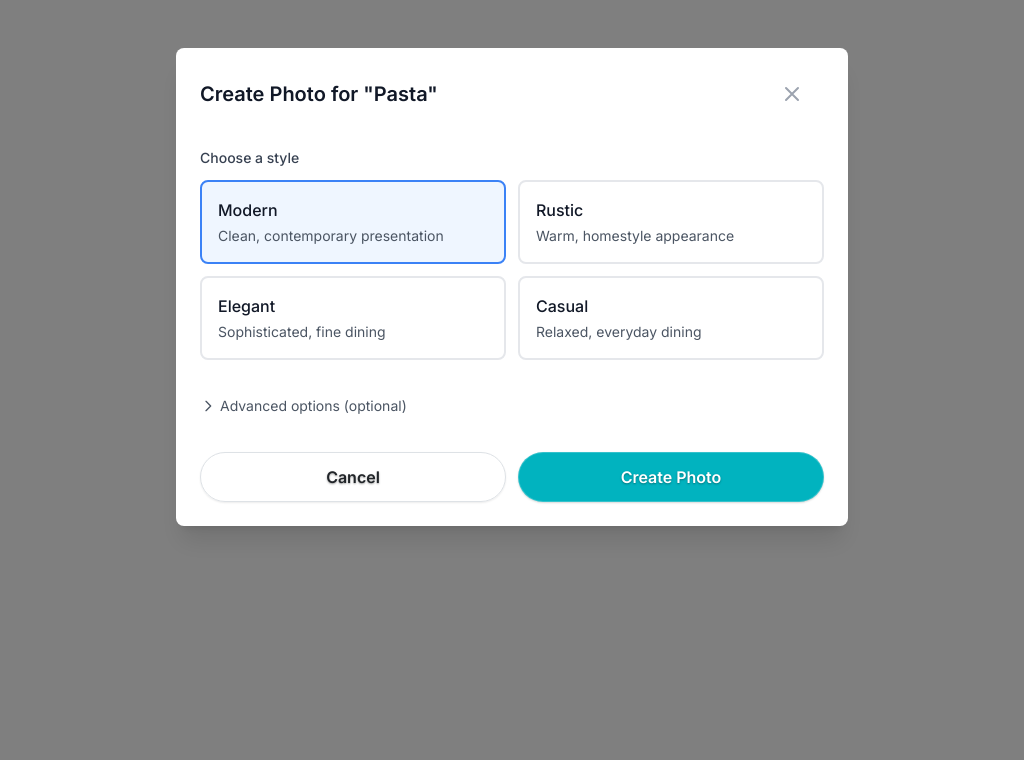
it: AIImageGeneration - Advanced options › toggles Advanced section and shows fields
What coordinates should you click on to do the following:
click the button "Advanced options (optional)"
I would click on:
 (303, 406)
Its box is [200,384,407,428].
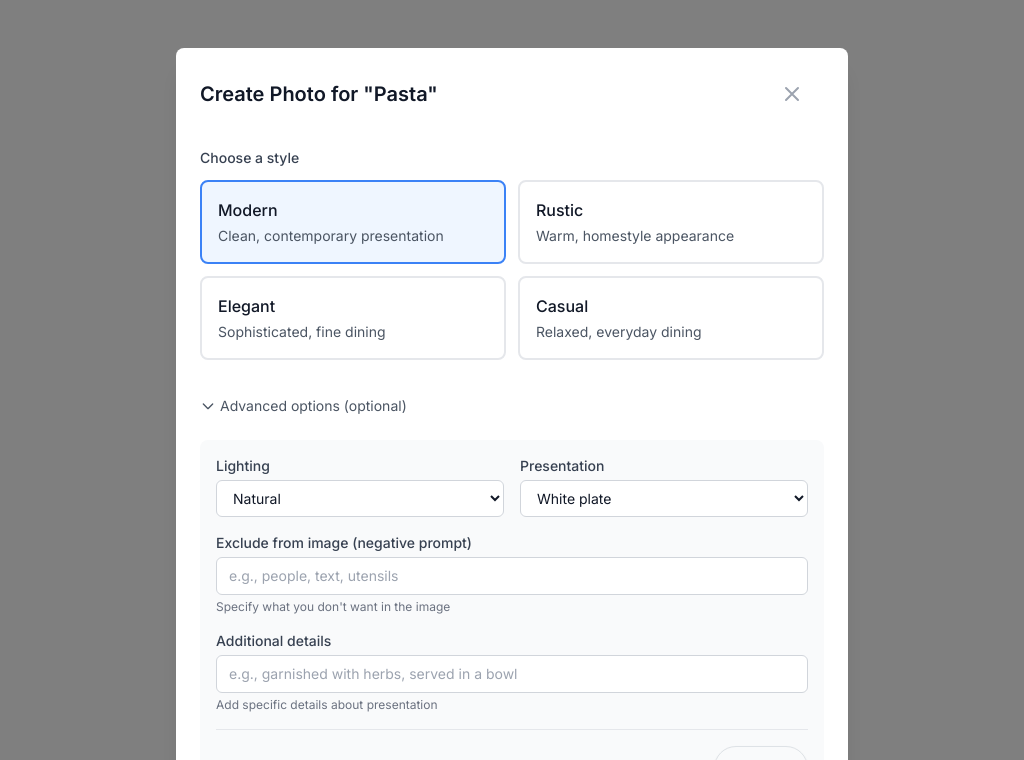
Expected: the text "Exclude from image (negative prompt)" is shown, [216,534,472,551]
Expected: the text "Additional details" is shown, [216,632,331,649]
